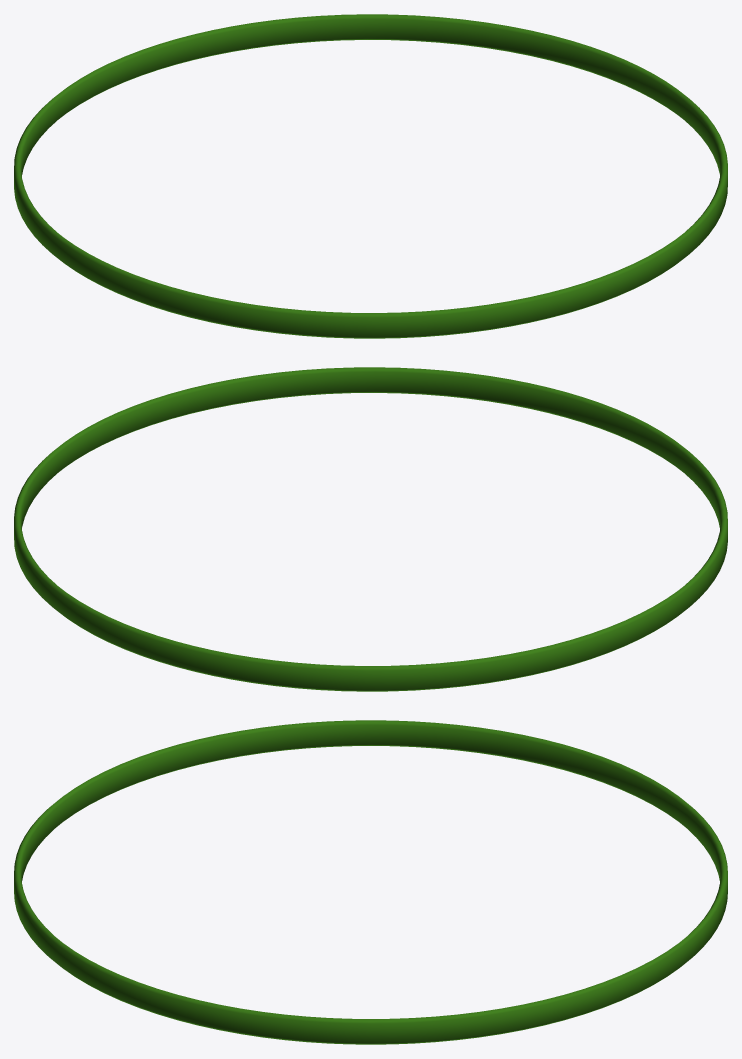
Rendered from rotation_y.obj.
3 renders of one model, top to bottom at view 1: azimuth 30°, elevation 25°; view 2: azimuth 150°, elevation 25°; view 3: azimuth 270°, elevation 25°, orthographic.
Parts seen in each view (by area): view 1: YAxis; view 2: YAxis; view 3: YAxis.
Boxes of the visible parts, <box> form: YAxis: <box>14,14,727,338</box>; YAxis: <box>14,367,727,691</box>; YAxis: <box>14,720,727,1044</box>.
Bounding box in the file's own units: 0.6749 × 0.0267 × 0.6749.
